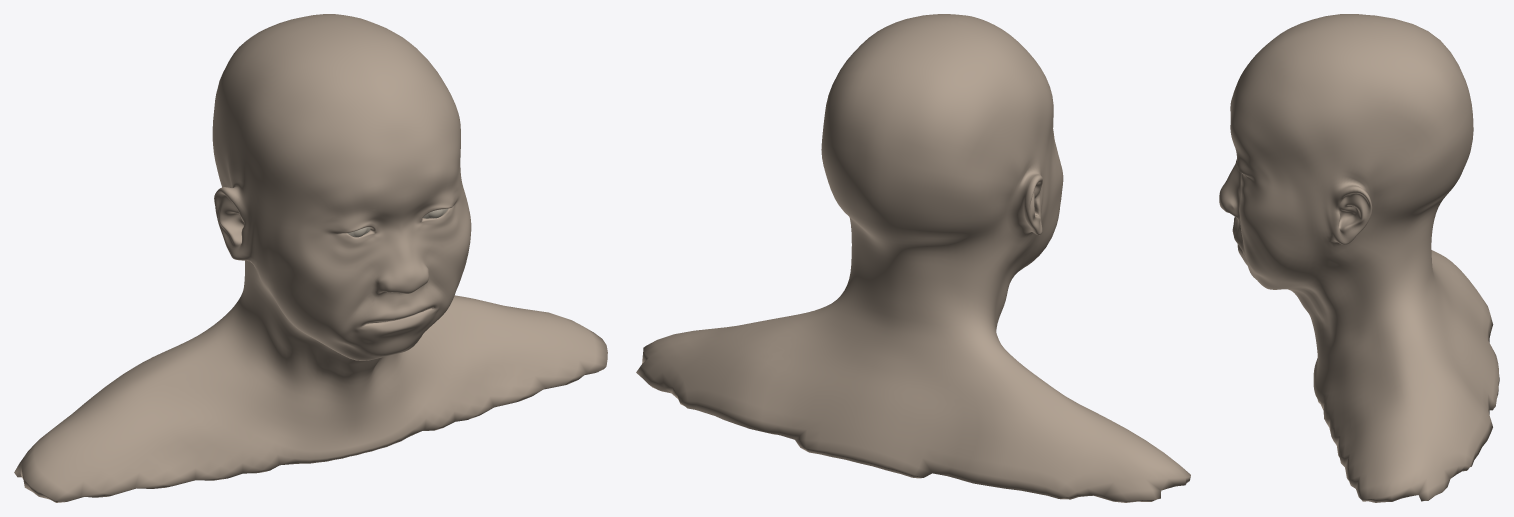
The model's file is director_wu.glb.
3 views of the same model, side by side, from view 1: azimuth 30°, elevation 25°; view 2: azimuth 150°, elevation 25°; view 3: azimuth 270°, elevation 25° (orthographic). The views are drawn at different scales.
Visible parts, largest first — view 1: anatomy_head_and_neck; view 2: anatomy_head_and_neck; view 3: anatomy_head_and_neck.
Part boxes in pixels (box(x1,y1,x2,y2)): anatomy_head_and_neck: box(14, 14, 607, 502); anatomy_head_and_neck: box(636, 14, 1190, 502); anatomy_head_and_neck: box(1219, 14, 1499, 502).
Size of the model in its own units: 1 by 0.6788 by 0.4801.
